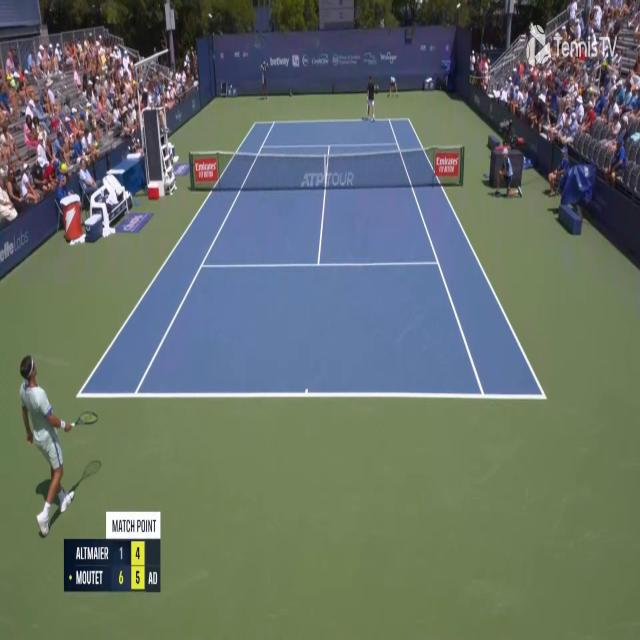tennis-player: (15, 348, 100, 540), (364, 74, 377, 122)
